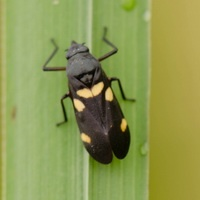insect: (43, 27, 134, 163)
